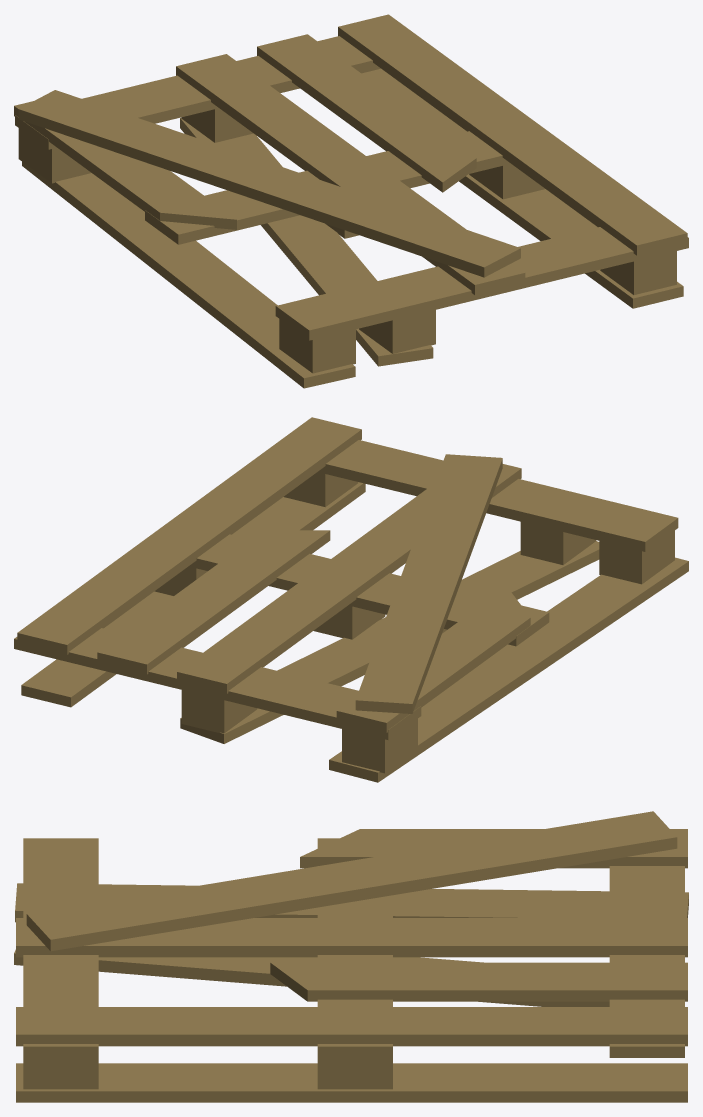
The model's file is pallet-broken.glb.
3 renders of one model, top to bottom at view 1: azimuth 30°, elevation 25°; view 2: azimuth 150°, elevation 25°; view 3: azimuth 270°, elevation 25°, orthographic. The views are drawn at different scales.
Parts seen in each view (by area): view 1: Pallet_Broken; view 2: Pallet_Broken; view 3: Pallet_Broken.
Boxes of the visible parts, x1,y1,x2,y2 form: Pallet_Broken: (14, 14, 688, 388); Pallet_Broken: (14, 417, 688, 782); Pallet_Broken: (14, 811, 688, 1102).
Bounding box in the file's own units: 0.9173 × 0.164 × 1.22.
